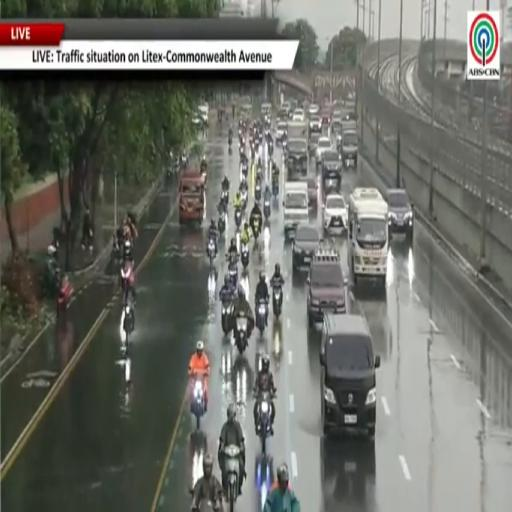car: (320, 313, 380, 437), (307, 242, 347, 328), (387, 189, 413, 243), (292, 223, 320, 270), (323, 194, 347, 233), (286, 139, 308, 175), (322, 149, 341, 189), (300, 176, 318, 209), (342, 130, 358, 167), (316, 136, 331, 166), (197, 103, 209, 126), (309, 133, 321, 156), (275, 121, 287, 143), (321, 105, 332, 124), (309, 115, 321, 132), (192, 111, 203, 127), (292, 108, 305, 121), (309, 104, 320, 118), (333, 107, 342, 123)
motorcycle: (222, 445, 241, 511), (257, 393, 272, 454), (191, 375, 205, 430), (191, 492, 223, 511), (234, 313, 248, 355), (120, 265, 133, 302), (123, 301, 134, 341), (222, 300, 233, 334), (256, 300, 267, 334), (273, 285, 282, 317), (207, 237, 216, 268), (228, 263, 238, 286), (241, 244, 249, 269), (218, 213, 226, 234), (240, 187, 247, 210), (235, 208, 242, 229), (200, 159, 207, 180), (272, 176, 278, 198), (221, 189, 229, 205), (264, 198, 270, 219), (255, 181, 261, 201), (241, 163, 248, 180), (268, 140, 273, 157), (239, 144, 245, 156), (282, 138, 287, 152), (251, 143, 255, 159)
truck: (348, 188, 389, 287), (288, 121, 308, 140)
